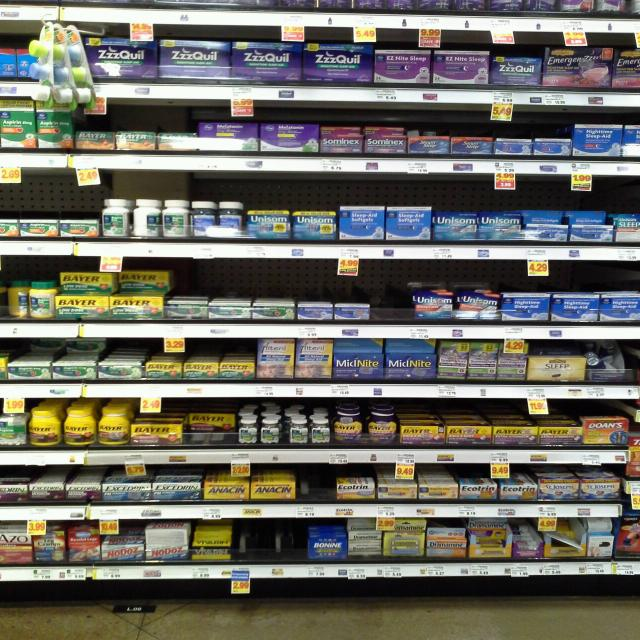unorganised: (586, 345, 629, 385), (185, 412, 236, 441), (132, 195, 163, 241), (116, 270, 170, 294), (59, 271, 117, 293), (545, 528, 587, 556), (6, 280, 28, 319), (191, 528, 230, 548), (65, 338, 108, 354)
